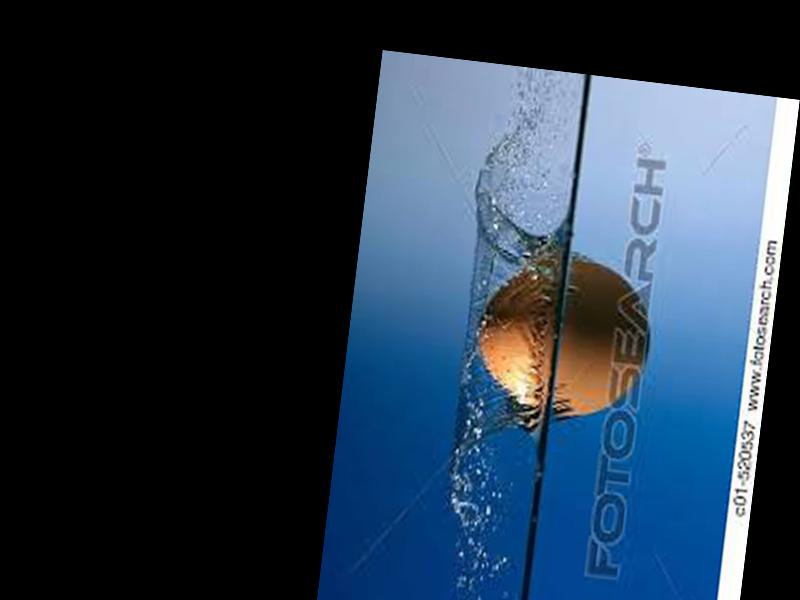Eggs: (468, 247, 656, 424)
